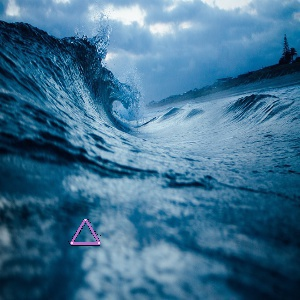triangle: (69, 216, 103, 248)
